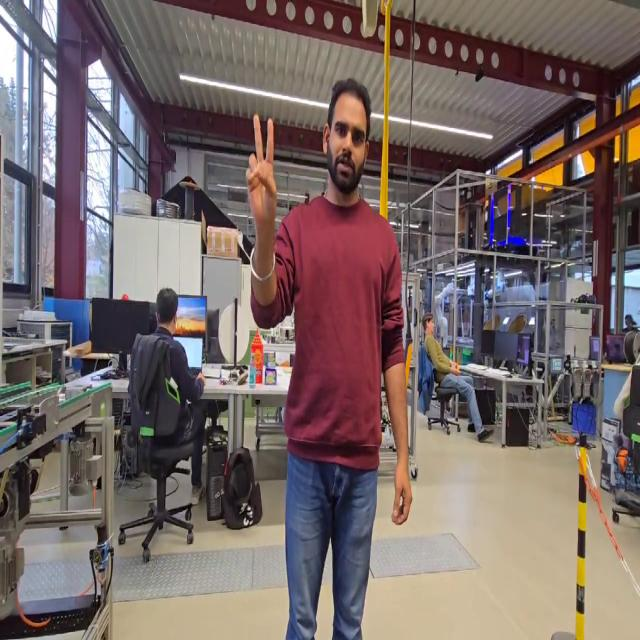v_sign: (240, 115, 284, 225)
